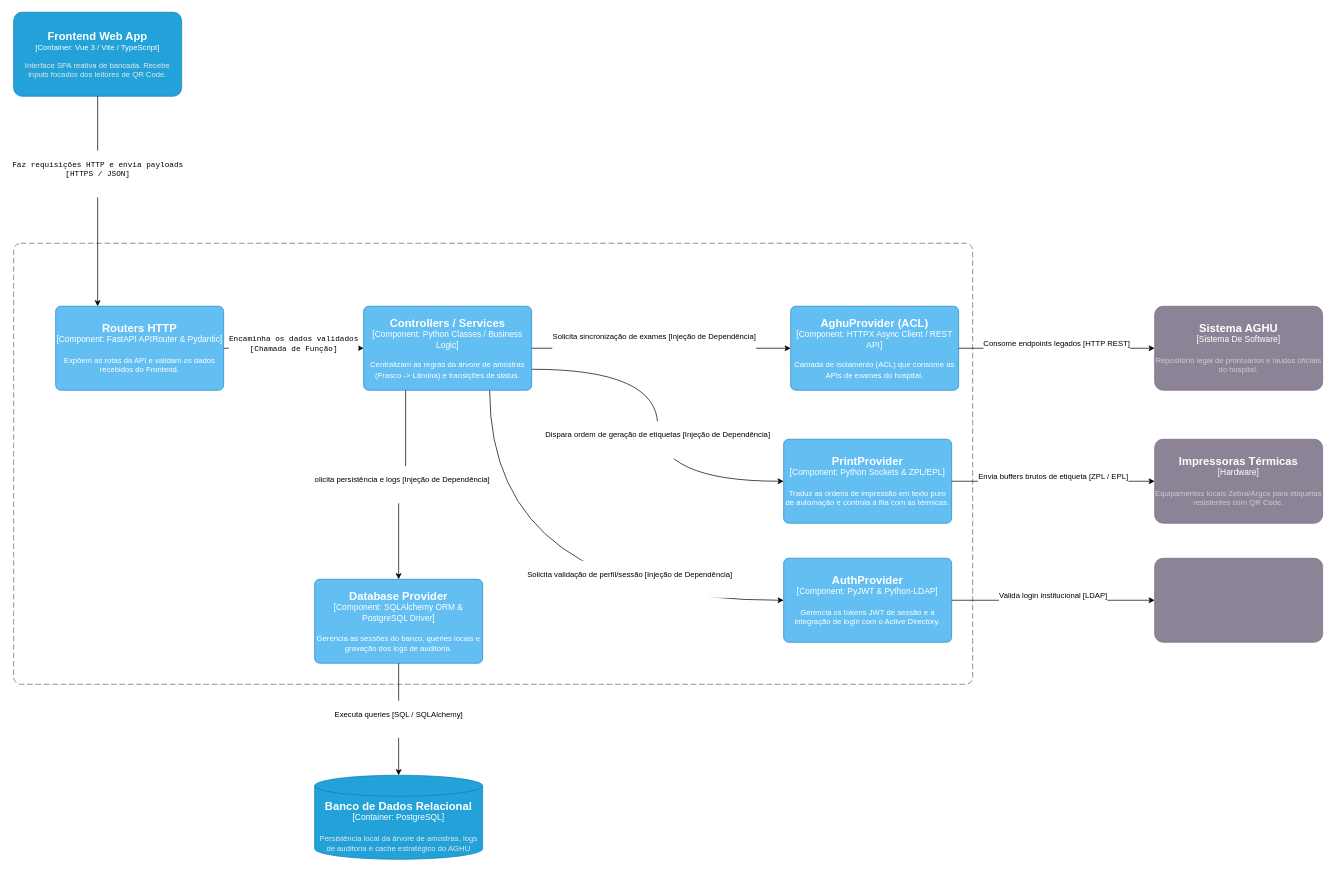
This 1335x872 diagram has some shape labels left out. The box of each missing label's shape, as (x1, y1, x2, y2) in pixels:
Backend API [Contêiner: FastAPI]: (13, 243, 973, 684)
LDAP [Infraestrutura] Infraestrutura corporativa hospitalar para autenticação.: (1154, 558, 1323, 642)
